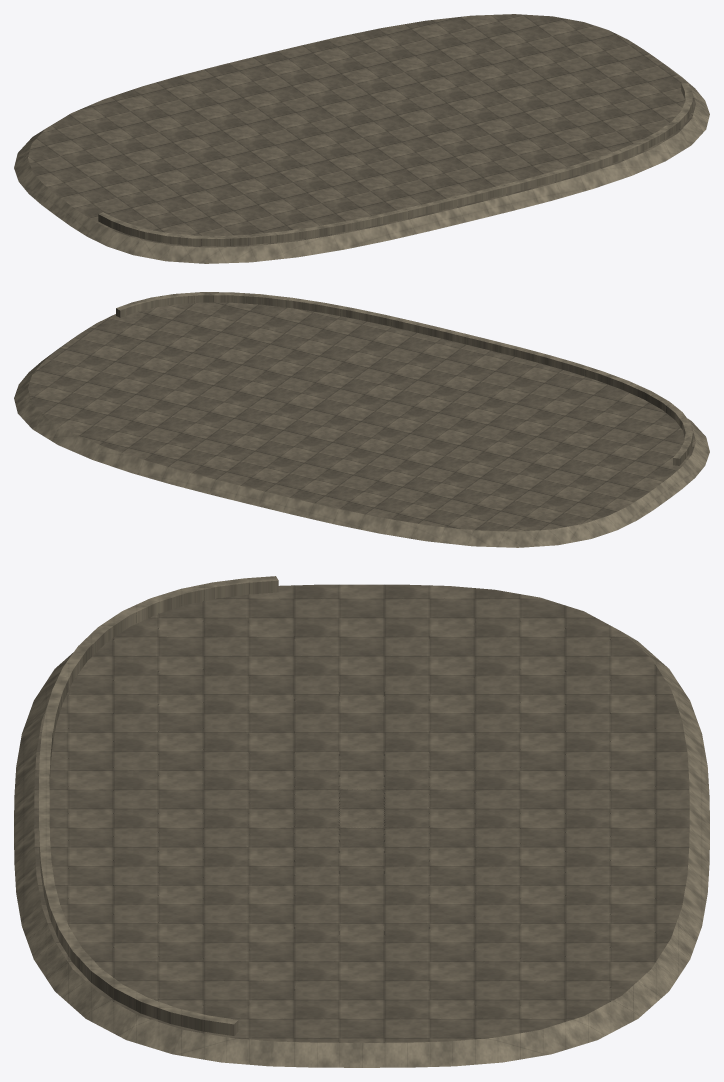
Rendered from Mountain_OverlookPlaza.glb.
3 views of the same model, one above another, from view 1: azimuth 30°, elevation 25°; view 2: azimuth 150°, elevation 25°; view 3: azimuth 270°, elevation 25° (orthographic). The views are drawn at different scales.
Parts seen in each view (by area): view 1: SM_Summit_OverlookPlaza; view 2: SM_Summit_OverlookPlaza; view 3: SM_Summit_OverlookPlaza.
Part boxes in pixels (bbox=[...]): SM_Summit_OverlookPlaza: bbox=[14, 14, 709, 263]; SM_Summit_OverlookPlaza: bbox=[14, 292, 709, 547]; SM_Summit_OverlookPlaza: bbox=[14, 576, 709, 1067].
Bounding box in the file's own units: 99.6 × 2.75 × 61.6.
2 materials, 2 textured.
